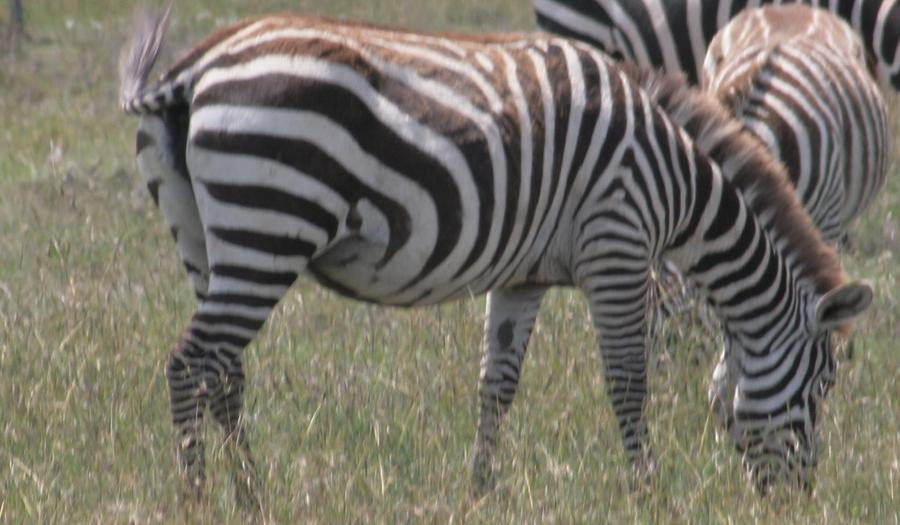zebra_plains: (227, 0, 695, 331)
